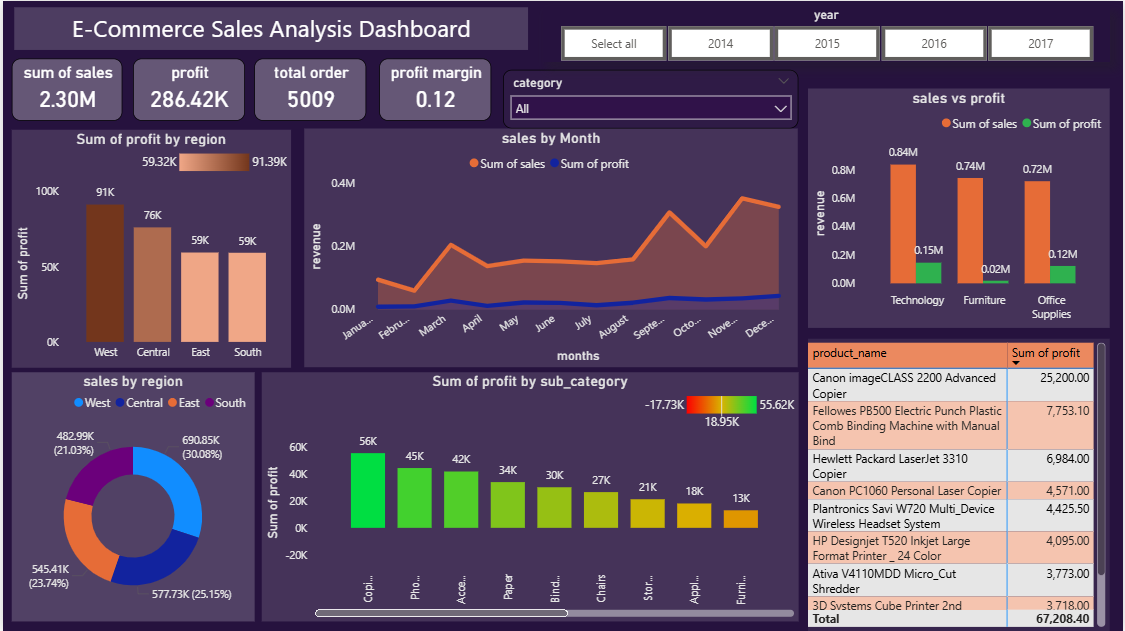

This screenshot's page, from the dashboard's own definition file:
{"tool":"powerbi","page":{"name":"Page 1","canvas":[1280,720],"ordinal":0},"visuals":[{"type":"slicer","fields":{"Values":["products.category"]},"box":[571.8,78.5,337.4,67.5],"z":0},{"type":"card","title":"sum of sales","fields":{"Values":["Sum(order_detail.sales)"]},"box":[9.8,65,126.4,71.2],"z":1000},{"type":"card","title":"profit","fields":{"Values":["Sum(order_detail.profit)"]},"box":[148.5,65,127.6,71.2],"z":2000},{"type":"card","title":"total order","fields":{"Values":["Count(order.order_id)"]},"box":[287.1,65,127.6,71.2],"z":3000},{"type":"card","title":"profit margin","fields":{"Values":["order_detail.profit margin"]},"box":[430.7,65,127.6,71.2],"z":4000},{"type":"lineChart","title":"sales by Month","fields":{"Category":["order.order_date.Variation.Date Hierarchy.Month"],"Y":["Sum(order_detail.sales)","Sum(order_detail.profit)"]},"box":[344.8,145.7,564.1,272.7],"z":5000},{"type":"clusteredColumnChart","title":"sales vs profit","fields":{"Category":["products.category"],"Y":["Sum(order_detail.sales)","Sum(order_detail.profit)"]},"box":[920.3,100.6,344.8,273.6],"z":6000},{"type":"columnChart","fields":{"Category":["customer.region"],"Y":["Sum(order_detail.profit)"]},"box":[9.8,147.2,319,272.4],"z":7000},{"type":"pivotTable","fields":{"Rows":["products.product_name"],"Values":["Sum(order_detail.profit)"]},"box":[920.3,385.3,344.8,335],"z":8000},{"type":"donutChart","title":"sales by region","fields":{"Category":["customer.region"],"Y":["Sum(order_detail.sales)"]},"box":[9.8,424.5,277.3,284.7],"z":9000},{"type":"slicer","title":"year","fields":{"Values":["order.order_date.Variation.Date Hierarchy.Year"]},"box":[617.2,7.4,647.9,62.6],"z":10000},{"type":"clusteredColumnChart","fields":{"Category":["products.sub_category"],"Y":["Sum(order_detail.profit)"]},"box":[295.7,424.5,613.5,284.7],"z":11000},{"type":"textbox","box":[13,7.2,587,49],"z":12000}]}

Visuals, with their boxes in screenshot pixels (x1, y1, x2, y2), scaled from the page's 1280x720 canvas onto the 1125x631 screenshot:
slicer - products.category: l=503, t=69, r=799, b=128
"sum of sales" card: l=9, t=57, r=120, b=119
"profit" card: l=131, t=57, r=243, b=119
"total order" card: l=252, t=57, r=364, b=119
"profit margin" card: l=379, t=57, r=491, b=119
"sales by Month" lineChart: l=303, t=128, r=799, b=367
"sales vs profit" clusteredColumnChart: l=809, t=88, r=1112, b=328
columnChart - customer.region x Sum(order_detail.profit): l=9, t=129, r=289, b=368
pivotTable - products.product_name x Sum(order_detail.profit): l=809, t=338, r=1112, b=630
"sales by region" donutChart: l=9, t=372, r=252, b=622
"year" slicer: l=542, t=6, r=1112, b=61
clusteredColumnChart - products.sub_category x Sum(order_detail.profit): l=260, t=372, r=799, b=622
textbox: l=11, t=6, r=527, b=49
